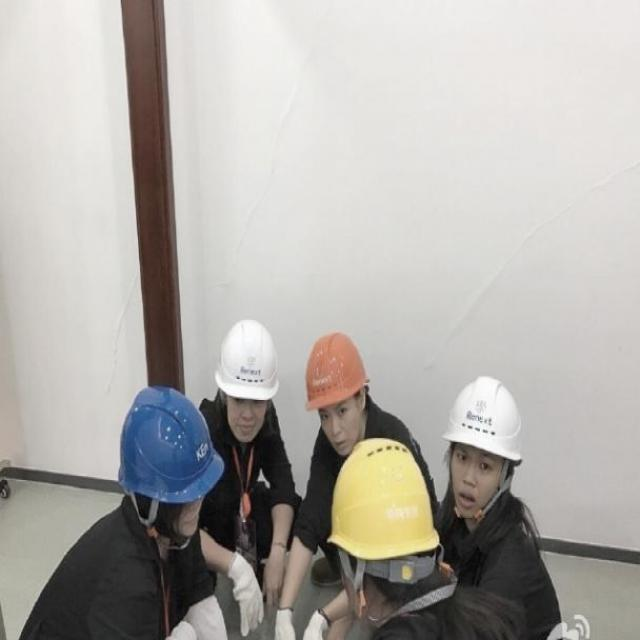gloves: (218, 553, 269, 633), (266, 590, 300, 639), (296, 599, 334, 639)
helmet: (330, 429, 436, 606), (112, 372, 212, 543), (439, 370, 532, 518), (294, 314, 366, 447), (213, 312, 283, 442)
